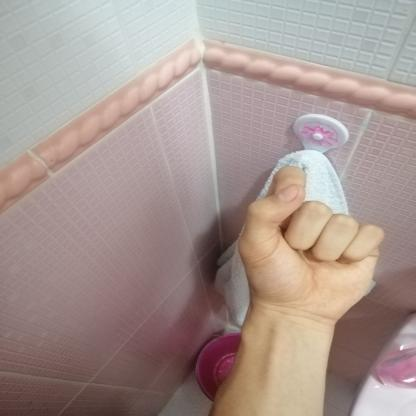FAA: (221, 157, 396, 330)
